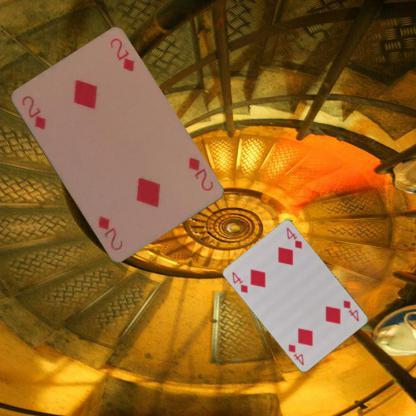2d: (18, 92, 48, 132), (184, 154, 214, 192)
4d: (340, 298, 360, 324), (230, 268, 250, 294)
